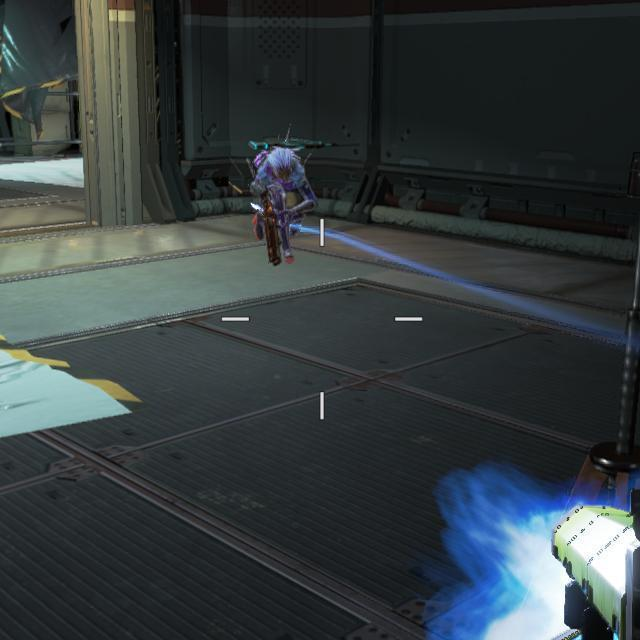avatar: (245, 135, 319, 267)
